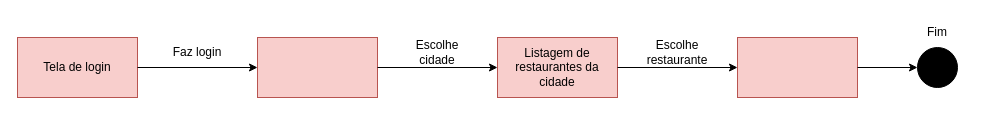
The diagram is 985 pixels wide and 115 high, and some of its shapes have lost their labels. The shapes that lost their labels are listed below. From the top down, each one's box as (x1, y1, x2, y2) in pixels, then its label:
(256, 36, 378, 98): Tela de listagem de cidades
(736, 36, 858, 98): Perfil do restaurante
